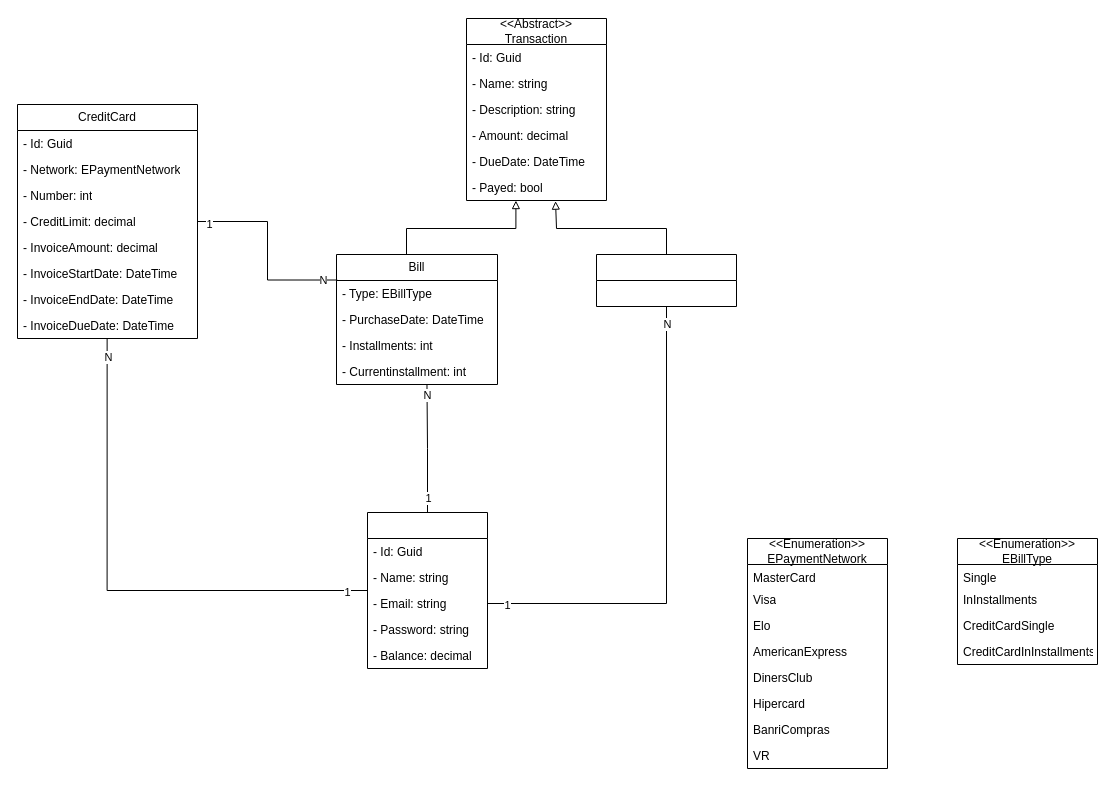
Some shapes in this 1115 by 789 pixel diagram are drawn without their labels. The shapes that lost their labels are listed below. From the top down, each one's box as (x1, y1, x2, y2) in pixels, then its label:
(596, 254, 736, 306): Income
(366, 512, 488, 668): User
